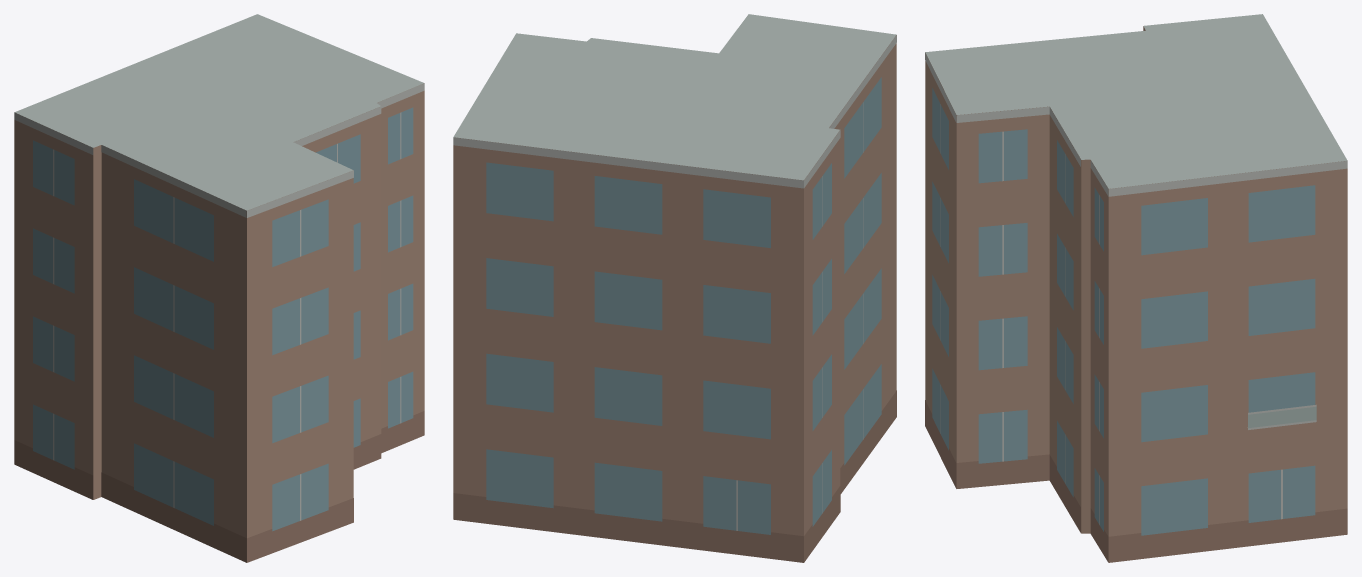
Rendered from survey-upis-32594826.glb.
3 renders of one model, left to right at view 1: azimuth 30°, elevation 25°; view 2: azimuth 150°, elevation 25°; view 3: azimuth 270°, elevation 25°, orthographic. The views are drawn at different scales.
Parts seen in each view (by area): view 1: survey-upis-32594826.tmp; view 2: survey-upis-32594826.tmp; view 3: survey-upis-32594826.tmp.
Boxes of the visible parts, left/top/right/bottom form: survey-upis-32594826.tmp: left=14, top=14, right=424, bottom=562; survey-upis-32594826.tmp: left=453, top=14, right=896, bottom=562; survey-upis-32594826.tmp: left=925, top=14, right=1347, bottom=562.
Bounding box in the file's own units: 11.54 × 11.5 × 11.78.
